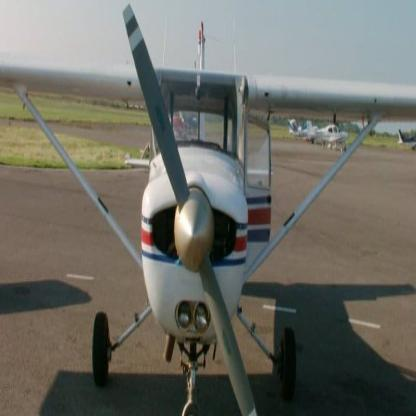CIV_Plane: (27, 0, 395, 415)
